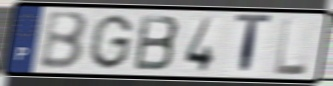4: (182, 14, 218, 75)
B: (38, 10, 91, 72), (132, 13, 182, 73)
G: (86, 13, 136, 72)
L: (273, 16, 309, 77)
T: (233, 13, 274, 79)
